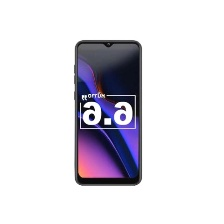phone: (73, 32, 146, 190)
